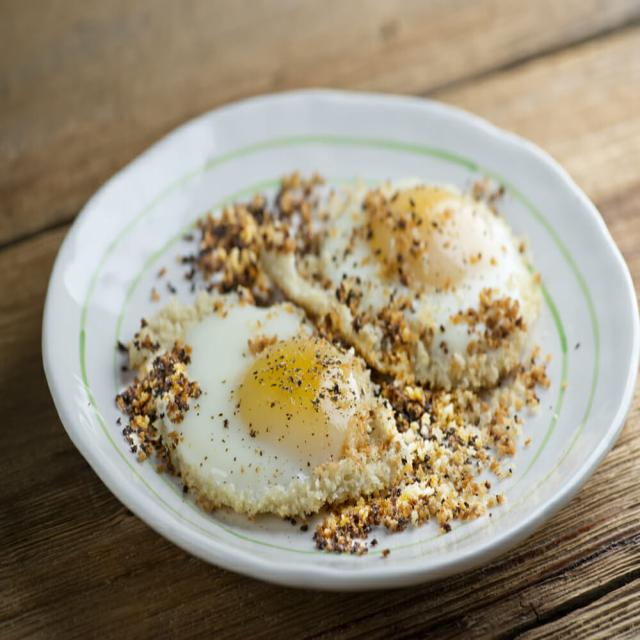Egg: (258, 174, 541, 390), (154, 298, 402, 517)
